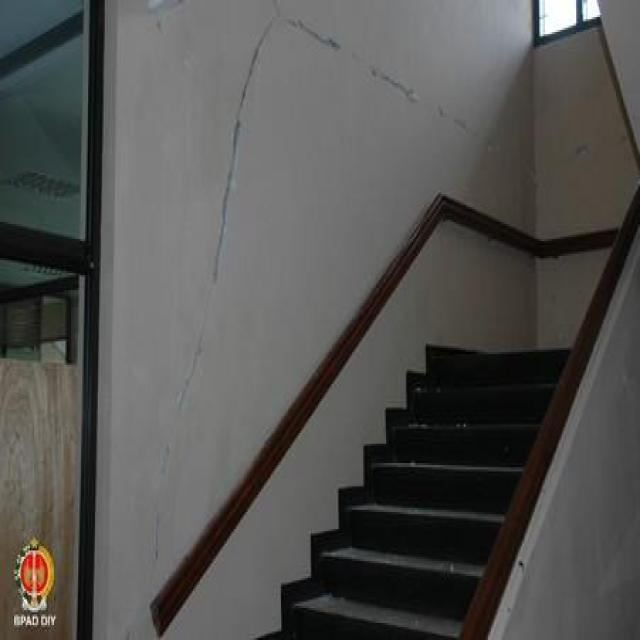damage: (273, 8, 444, 114), (176, 185, 231, 434), (448, 100, 546, 192), (226, 17, 275, 191), (146, 438, 187, 596)
